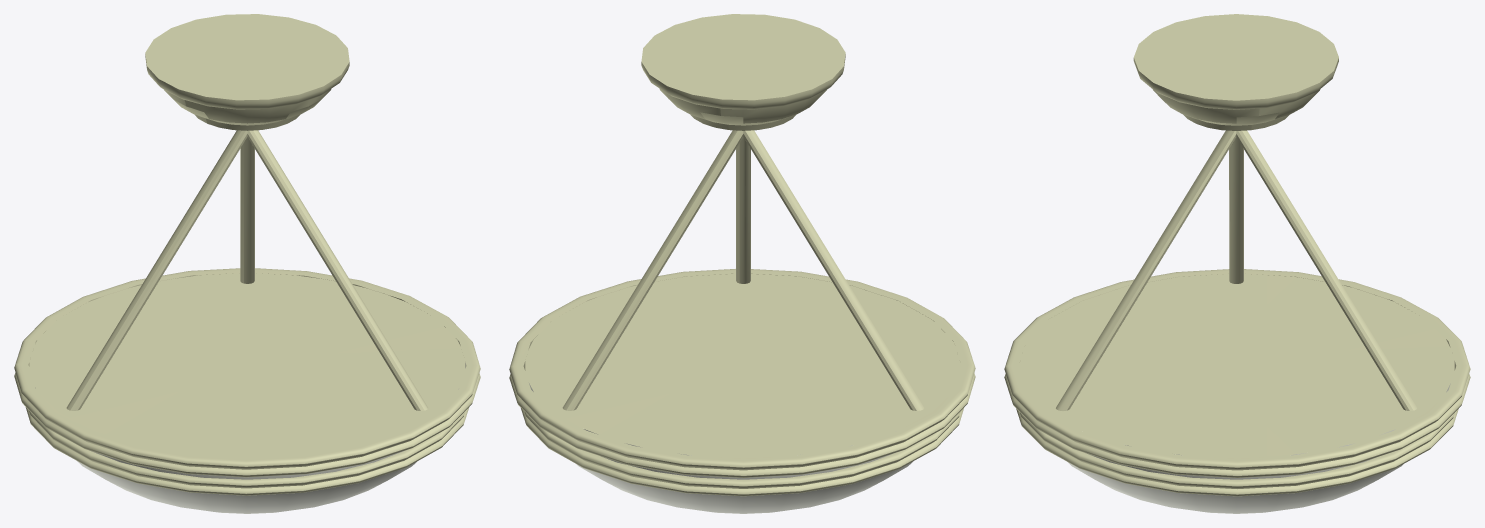
File: sh-contrib-hanging-light.glb
3 renders of one model, left to right at view 1: azimuth 30°, elevation 25°; view 2: azimuth 150°, elevation 25°; view 3: azimuth 270°, elevation 25°, orthographic.
Parts seen in each view (by area): view 1: ltgold_2_2, ltglass_1_1; view 2: ltgold_2_2, ltglass_1_1; view 3: ltgold_2_2, ltglass_1_1.
Boxes of the visible parts, <box> form: ltgold_2_2: <box>14,14,480,495</box>; ltglass_1_1: <box>35,363,465,513</box>; ltgold_2_2: <box>509,14,975,496</box>; ltglass_1_1: <box>529,383,913,513</box>; ltgold_2_2: <box>1004,14,1470,496</box>; ltglass_1_1: <box>1068,383,1450,513</box>.
Size of the model in its own units: 1 by 1 by 1.
